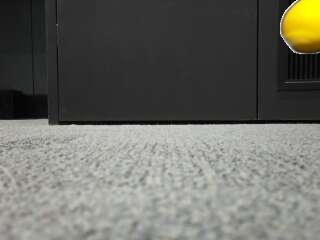lemon: (284, 0, 320, 53)
